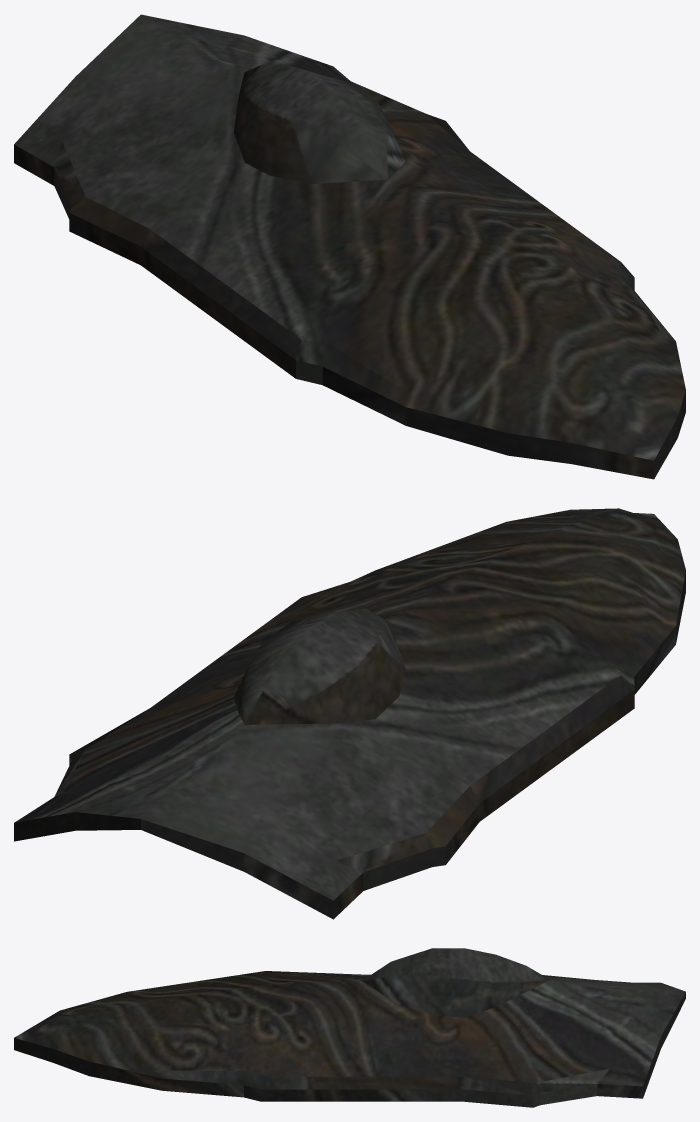
The picture shows the model from 3 angles, top to bottom: view 1: azimuth 30°, elevation 25°; view 2: azimuth 150°, elevation 25°; view 3: azimuth 270°, elevation 25°; orthographic projection. The views are drawn at different scales.
Parts seen in each view (by area): view 1: mesh_0; view 2: mesh_0; view 3: mesh_0.
Boxes of the visible parts, <box> form: mesh_0: <box>14,14,685,479</box>; mesh_0: <box>14,508,685,919</box>; mesh_0: <box>14,948,685,1107</box>.
Size of the model in its own units: 25.14 by 10.12 by 59.33.
Materials: 1 (1 with a texture image).
